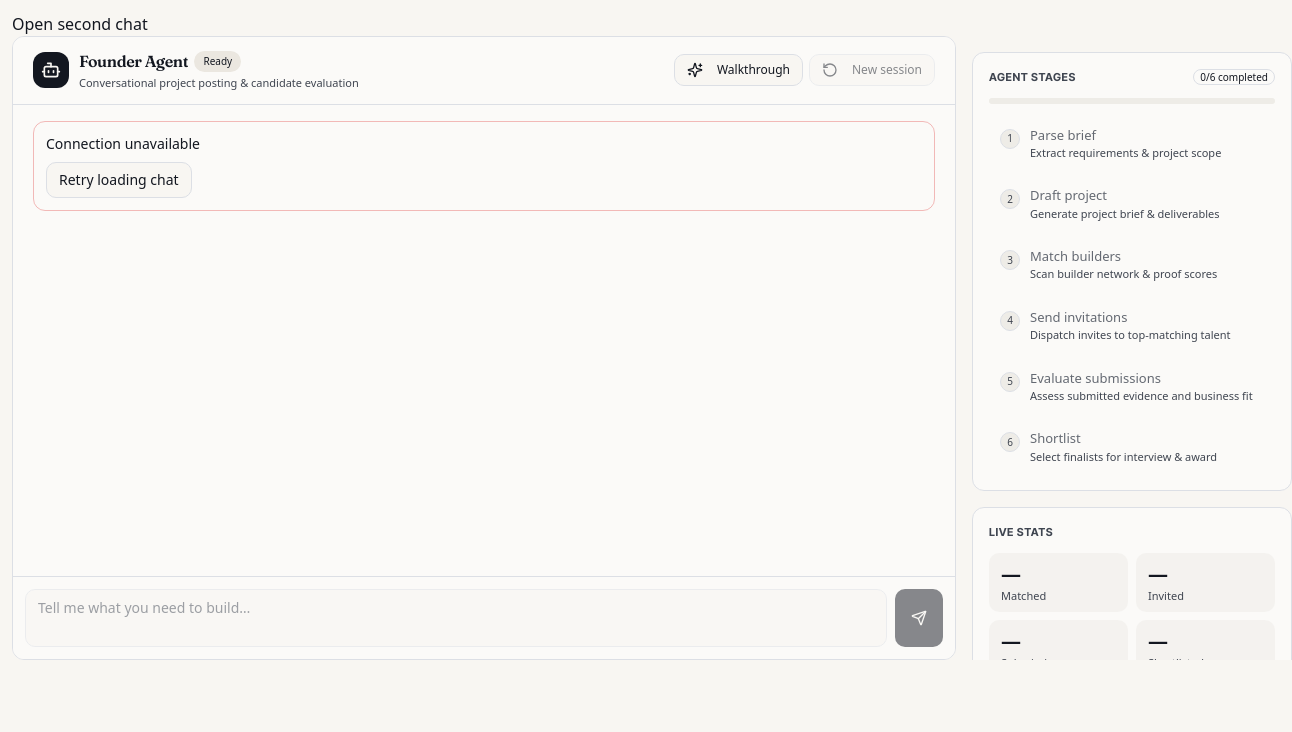
Founder agent chat recovery and request isolation › reports an existing-chat load failure and retries without creating a replacement
Expected: the text "Connection unavailable" is shown, x1=46 y1=134 x2=200 y2=152
Click the button "Retry loading chat": (119, 180) x1=46 y1=162 x2=192 y2=198
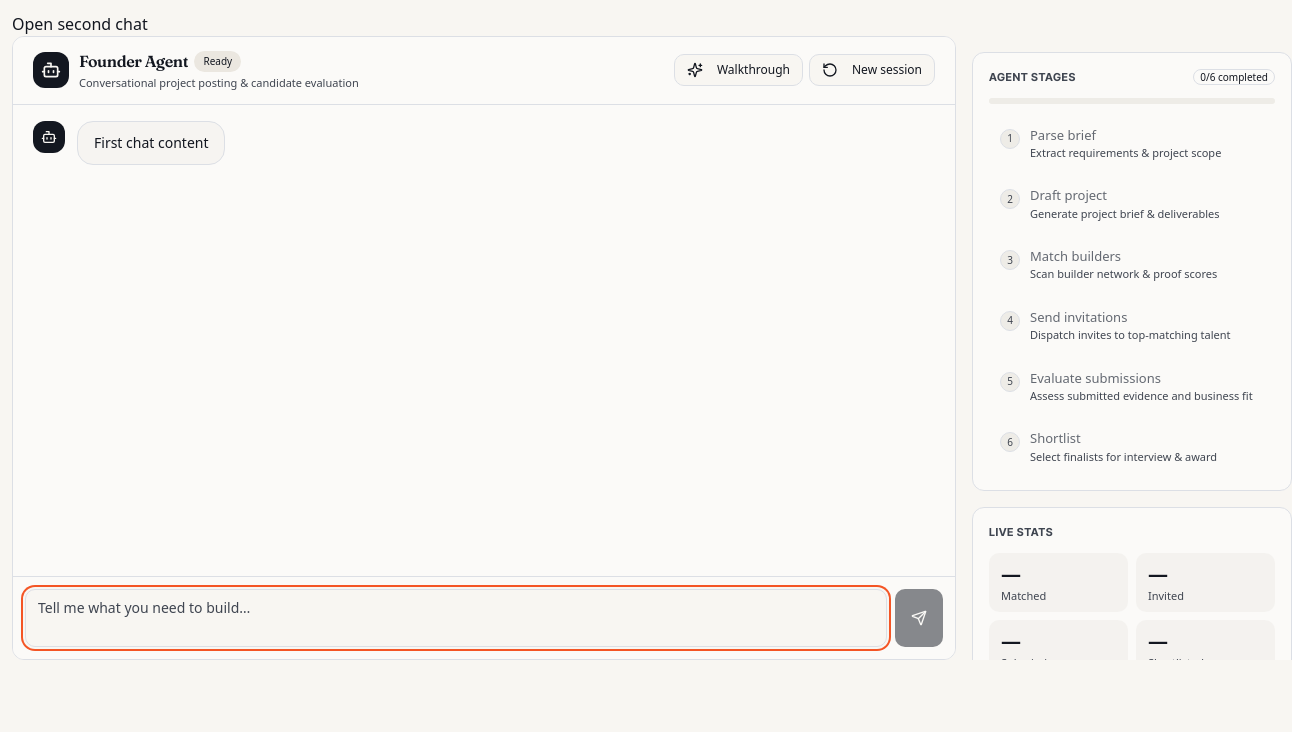
Expected: the text "First chat content" is shown, x1=94 y1=132 x2=208 y2=152
Expected: the text "Connection unavailable" is gone
